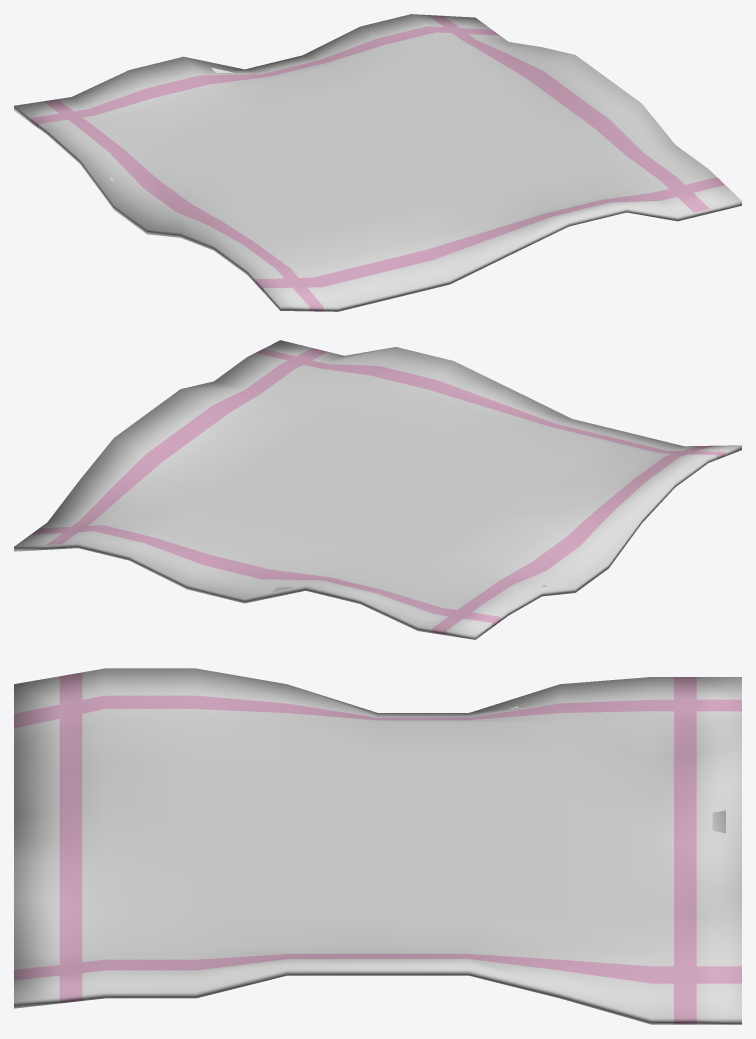
File: Lenço.fbx
The picture shows the model from 3 angles, top to bottom: view 1: azimuth 30°, elevation 25°; view 2: azimuth 150°, elevation 25°; view 3: azimuth 270°, elevation 25°; orthographic projection. The views are drawn at different scales.
Parts seen in each view (by area): view 1: Lenço; view 2: Lenço; view 3: Lenço.
Part boxes in pixels (x1,y1,x2,y2): Lenço: (14, 14, 741, 311); Lenço: (14, 340, 741, 639); Lenço: (14, 668, 741, 1024).
Size of the model in its own units: 200 by 17.62 by 200.
